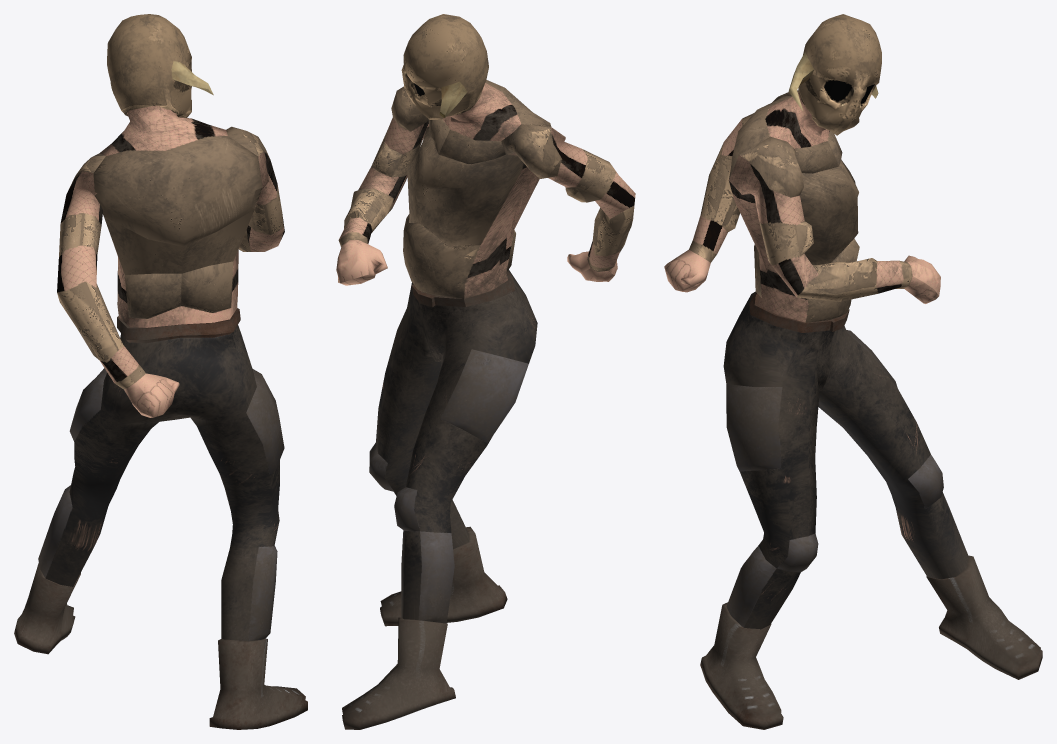
The model's file is Anim_ataque_f3_npc1.0033.obj.
The picture shows the model from 3 angles, left to right: view 1: azimuth 30°, elevation 25°; view 2: azimuth 150°, elevation 25°; view 3: azimuth 270°, elevation 25°; orthographic projection. The views are drawn at different scales.
Visible parts, largest first — view 1: NPC2; view 2: NPC2; view 3: NPC2.
Part boxes in pixels (x1,y1,x2,y2): NPC2: (14, 14, 307, 729); NPC2: (336, 14, 635, 729); NPC2: (664, 14, 1042, 729).
Bounding box in the file's own units: 3.63 × 9.16 × 4.76.
